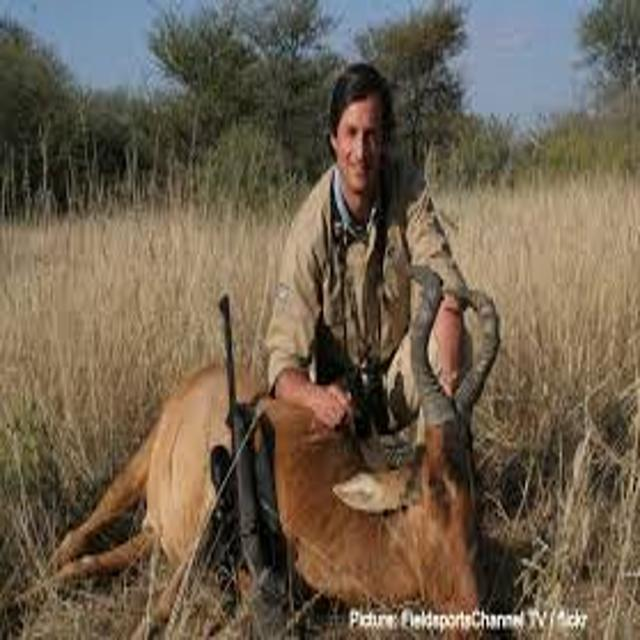deer: (9, 313, 639, 640)
gun: (186, 265, 317, 640)
poacher: (230, 44, 528, 492)
